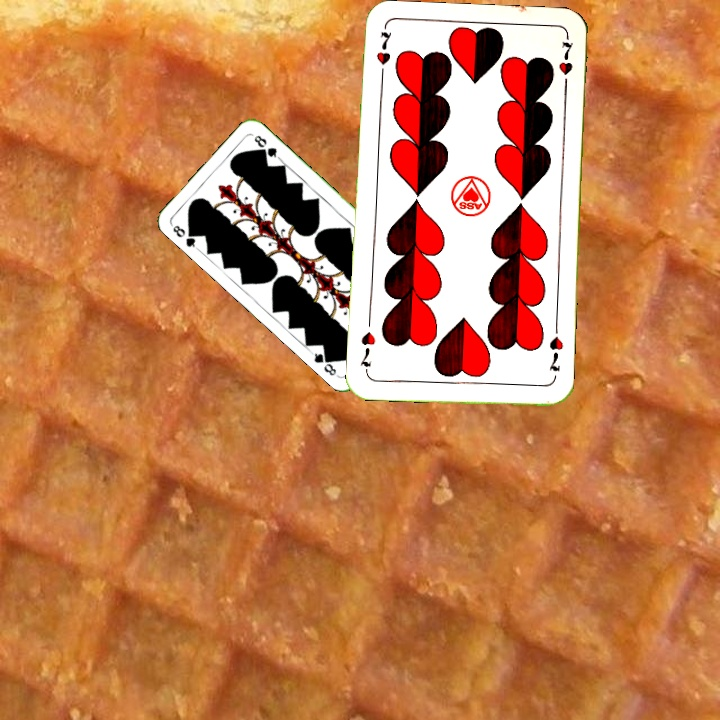G8: (168, 221, 201, 252)
H7: (372, 28, 393, 84), (545, 332, 566, 374)
